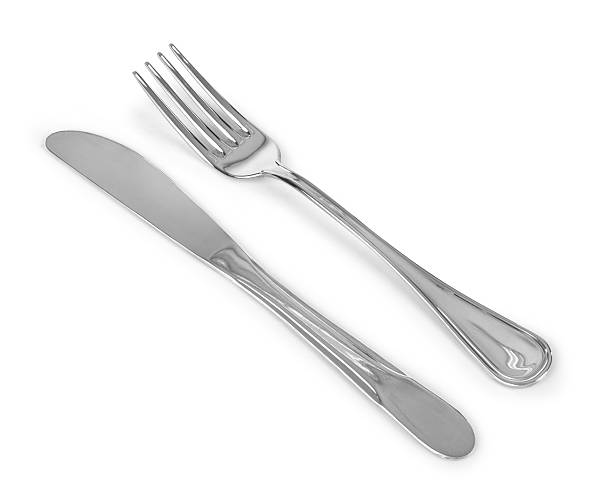k1: (36, 123, 249, 289)
